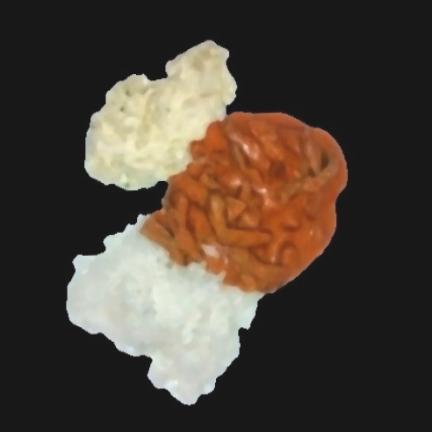meat: (143, 113, 346, 292)
potato: (85, 41, 237, 190)
rice: (66, 216, 261, 404)
